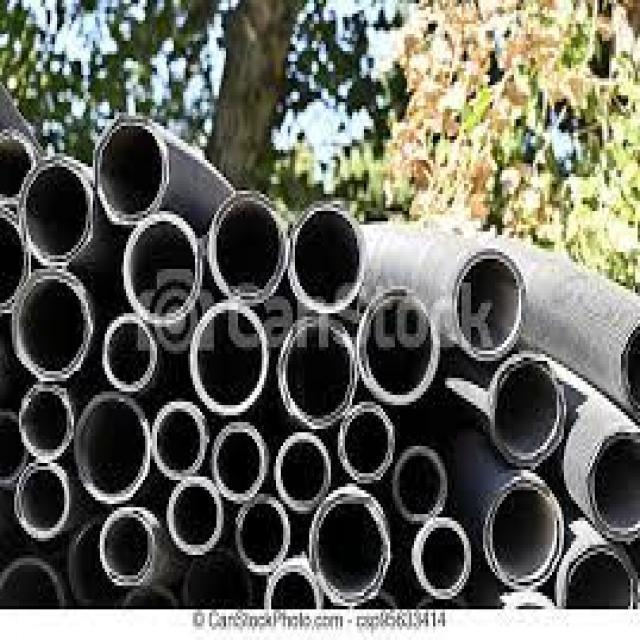pipe: (309, 486, 391, 608), (484, 471, 565, 590), (123, 212, 202, 328), (189, 302, 269, 416), (12, 270, 93, 382), (278, 316, 355, 430), (361, 294, 440, 405), (208, 192, 286, 304), (75, 393, 150, 504), (289, 206, 362, 314), (492, 361, 565, 468), (97, 118, 169, 224), (459, 254, 523, 361), (25, 166, 88, 254), (412, 518, 472, 601), (99, 508, 159, 588), (338, 403, 396, 484), (212, 423, 269, 504), (166, 477, 224, 556), (276, 433, 331, 514), (236, 495, 291, 576), (152, 402, 209, 480), (14, 464, 70, 542), (102, 314, 157, 392), (393, 447, 448, 524), (19, 386, 71, 461)
